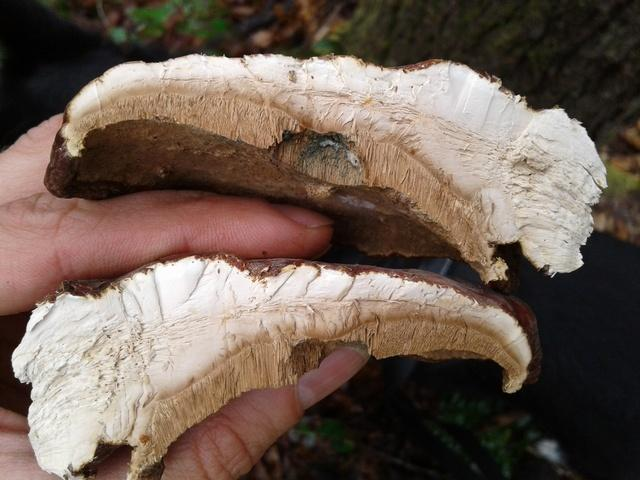poisonous_mushroom: (10, 50, 608, 477)
